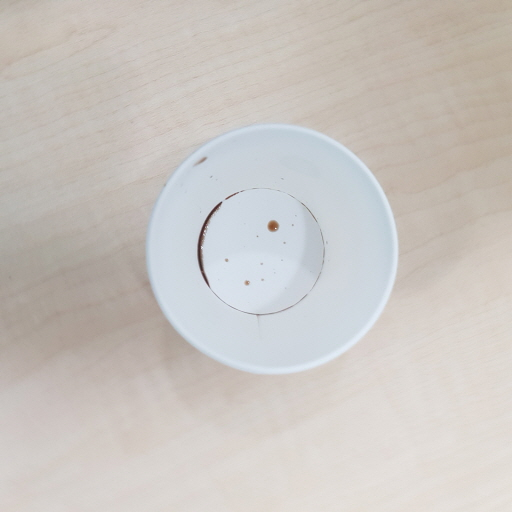Paper_1: (145, 119, 401, 373)
